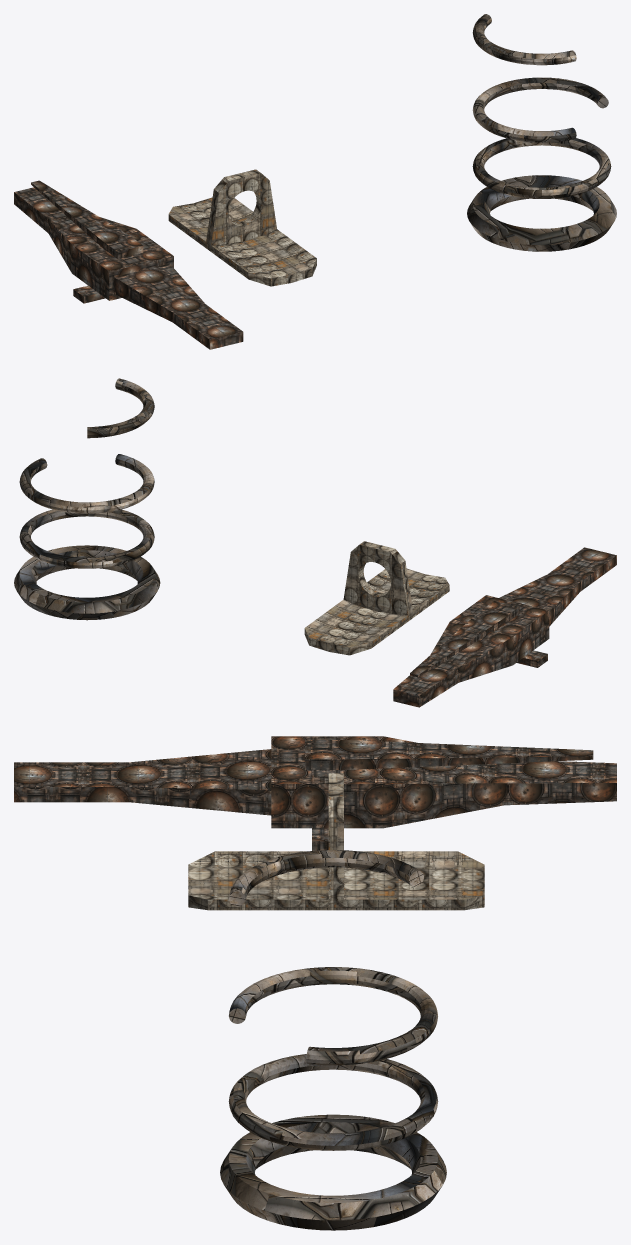
File: Derilicts.fbx
3 renders of one model, top to bottom at view 1: azimuth 30°, elevation 25°; view 2: azimuth 150°, elevation 25°; view 3: azimuth 270°, elevation 25°, orthographic. The views are drawn at different scales.
Parts seen in each view (by area): view 1: Derilict_02, Derilict_01, Torus.006, Torus.003, Torus.001, Torus.002; view 2: Derilict_02, Derilict_01, Torus.006, Torus.003, Torus.001, Torus.002; view 3: Derilict_02, Derilict_01, Torus.006, Torus.003, Torus.001, Torus.002.
Part boxes in pixels (x1,y1,x2,y2): Derilict_02: (14,180,243,349); Derilict_01: (168,169,316,286); Torus.006: (467,175,616,251); Torus.003: (472,138,611,198); Torus.001: (472,77,608,142); Torus.002: (472,14,576,65); Derilict_02: (393,547,616,707); Derilict_01: (304,541,449,655); Torus.006: (14,545,160,620); Torus.003: (19,509,154,568); Torus.001: (19,454,154,513); Torus.002: (87,378,154,438); Derilict_02: (14,736,616,850); Derilict_01: (188,773,484,910); Torus.006: (220,1114,446,1230); Torus.003: (228,1054,438,1150); Torus.001: (229,967,437,1065); Torus.002: (229,850,423,906).
Bounding box in the file's own units: 13794 × 4849 × 8983.
